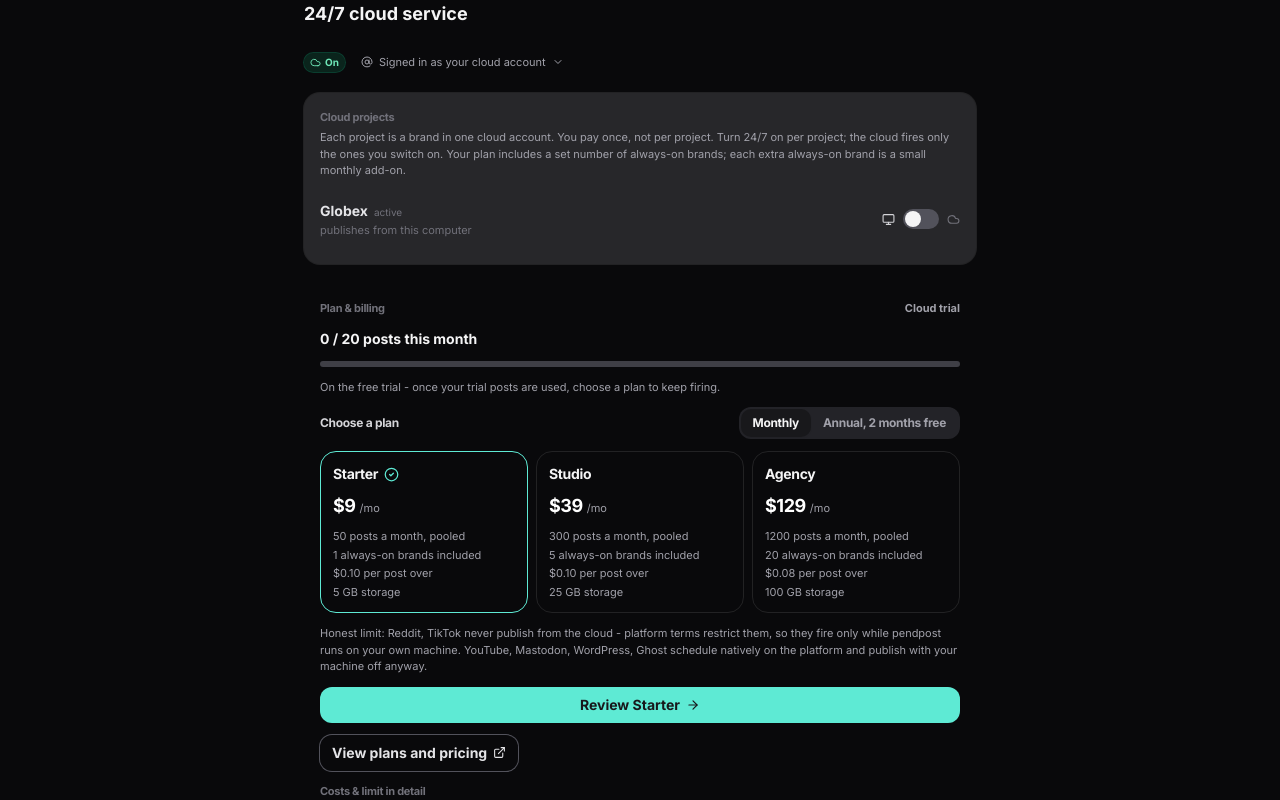
Test: Cloud › CONNECTED (no plan): enabling a brand is GATED - it prompts to start a plan and never silently enables
This screenshot has width=1280, height=800.
Step 1. Click the switch named "24/7 cloud for globex" → {"x": 921, "y": 219}, box [903,209,939,229]
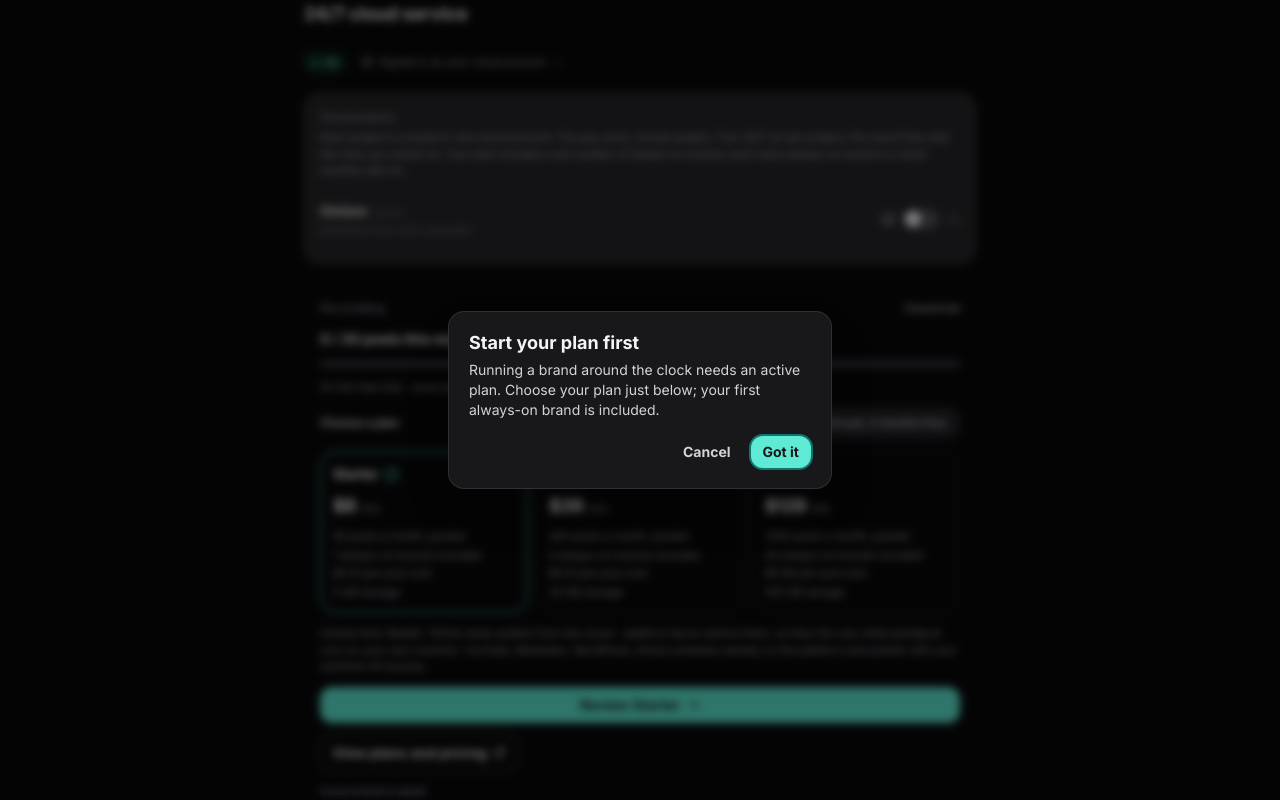
Expected: the button "Got it" is shown, [750,436,811,468]
